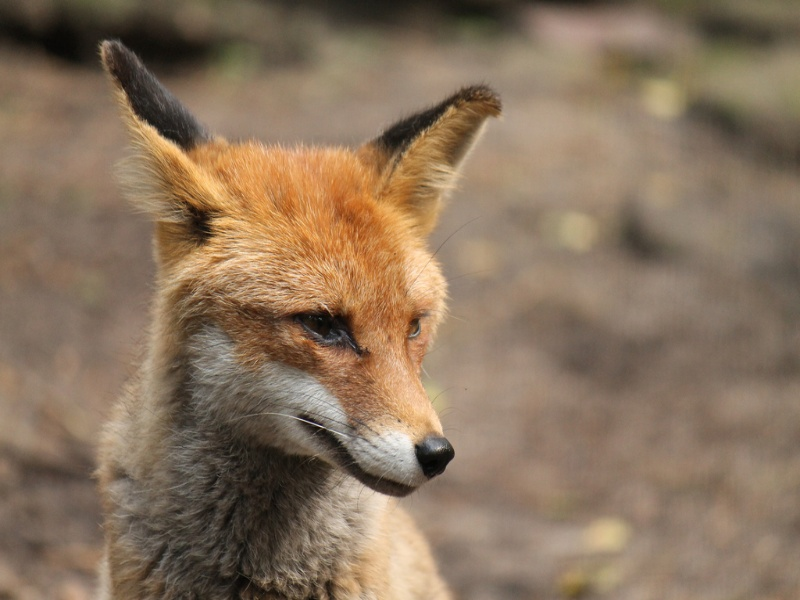fox: (86, 35, 527, 600)
